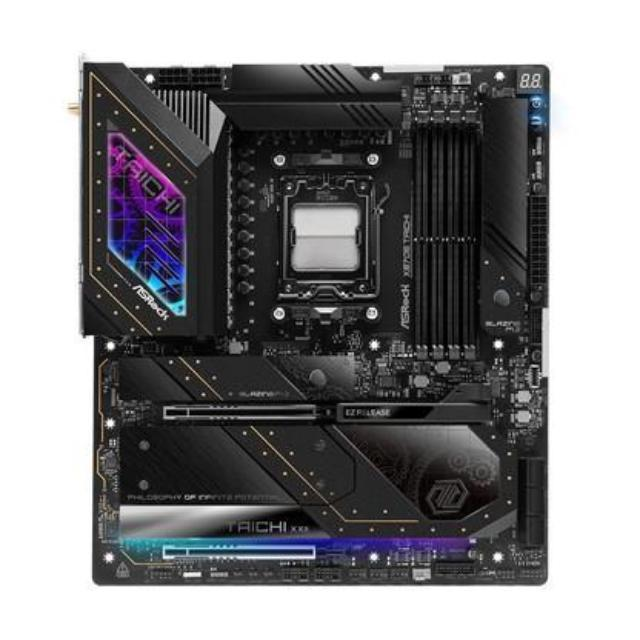Mainboard: (72, 48, 550, 592)
